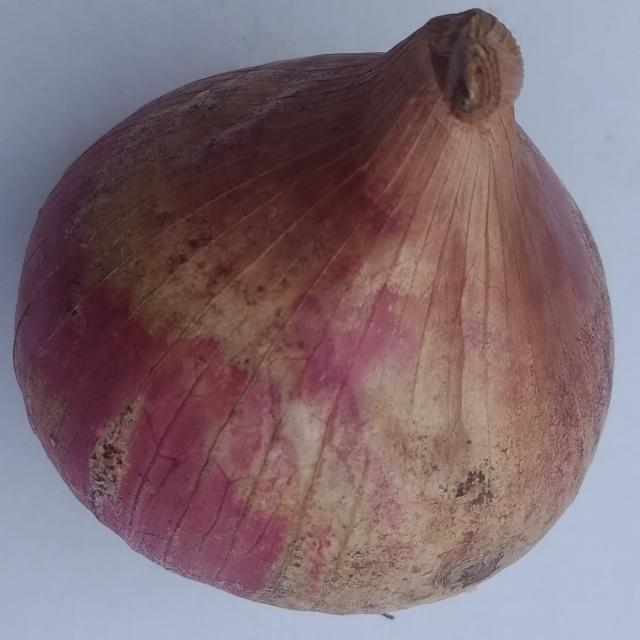onion: (12, 8, 615, 620)
